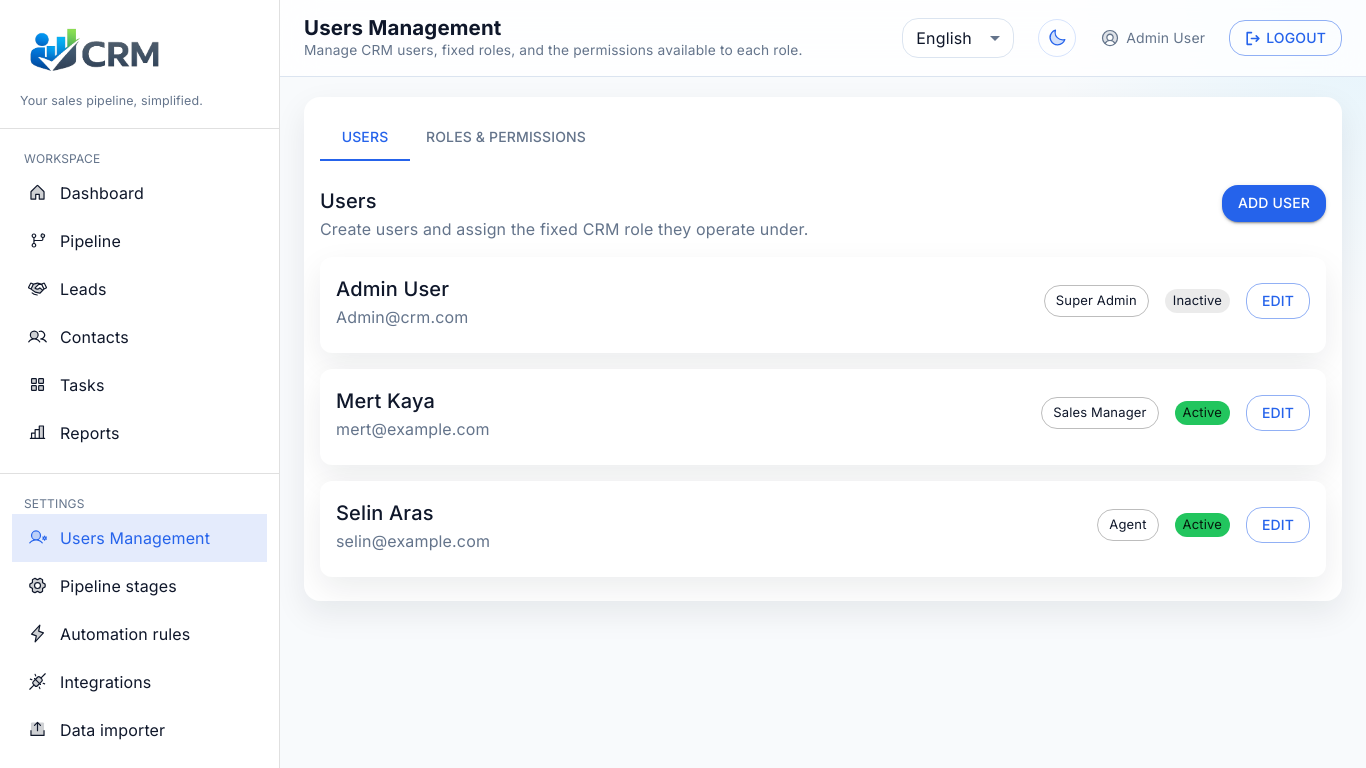
Users Management feature › creates a user with a fixed role
Expected: the heading "Users Management" is shown, top-left (304, 15), bottom-right (502, 40)
Click the button "Add user". click: [1274, 203]
box: top-left (1222, 185), bottom-right (1326, 222)
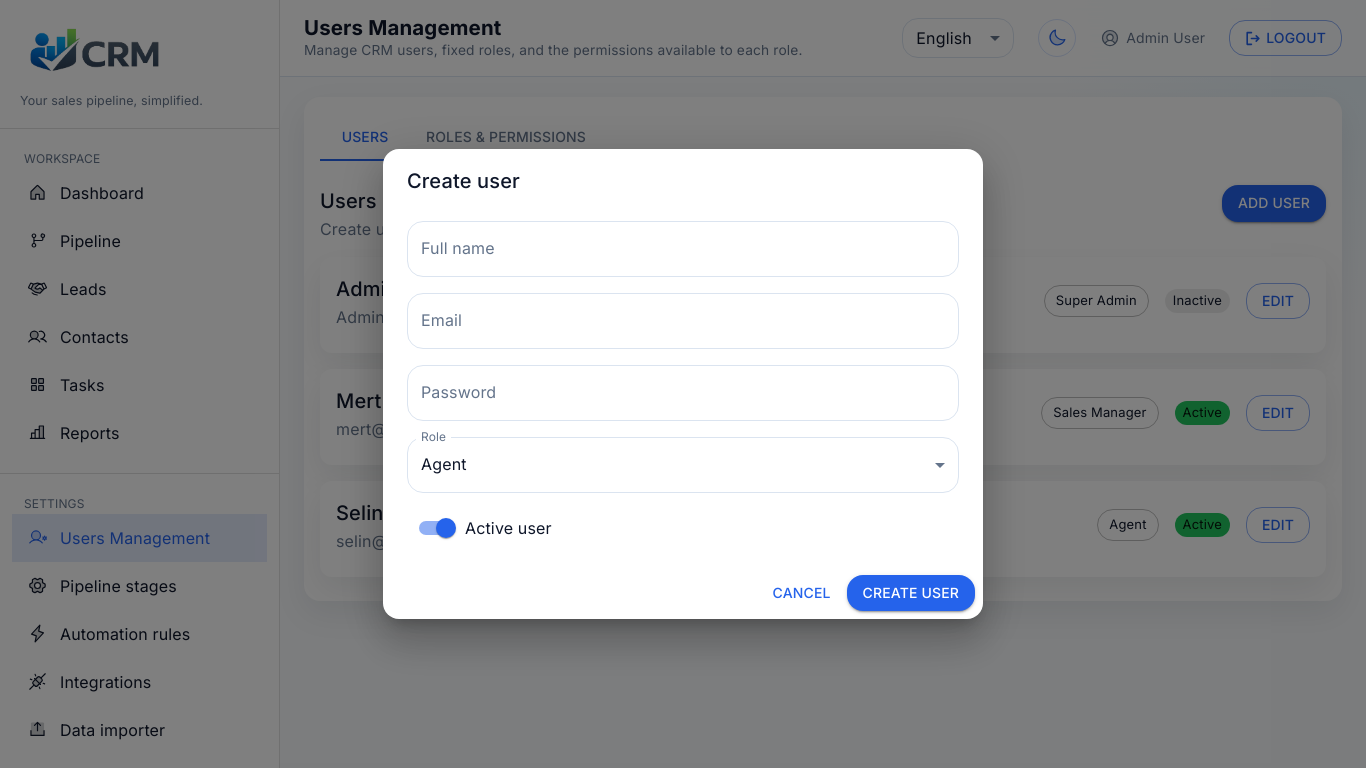
Type "Nora Haddad" into the field labelled "Full name". click: [683, 249]
box: top-left (407, 221), bottom-right (959, 277)
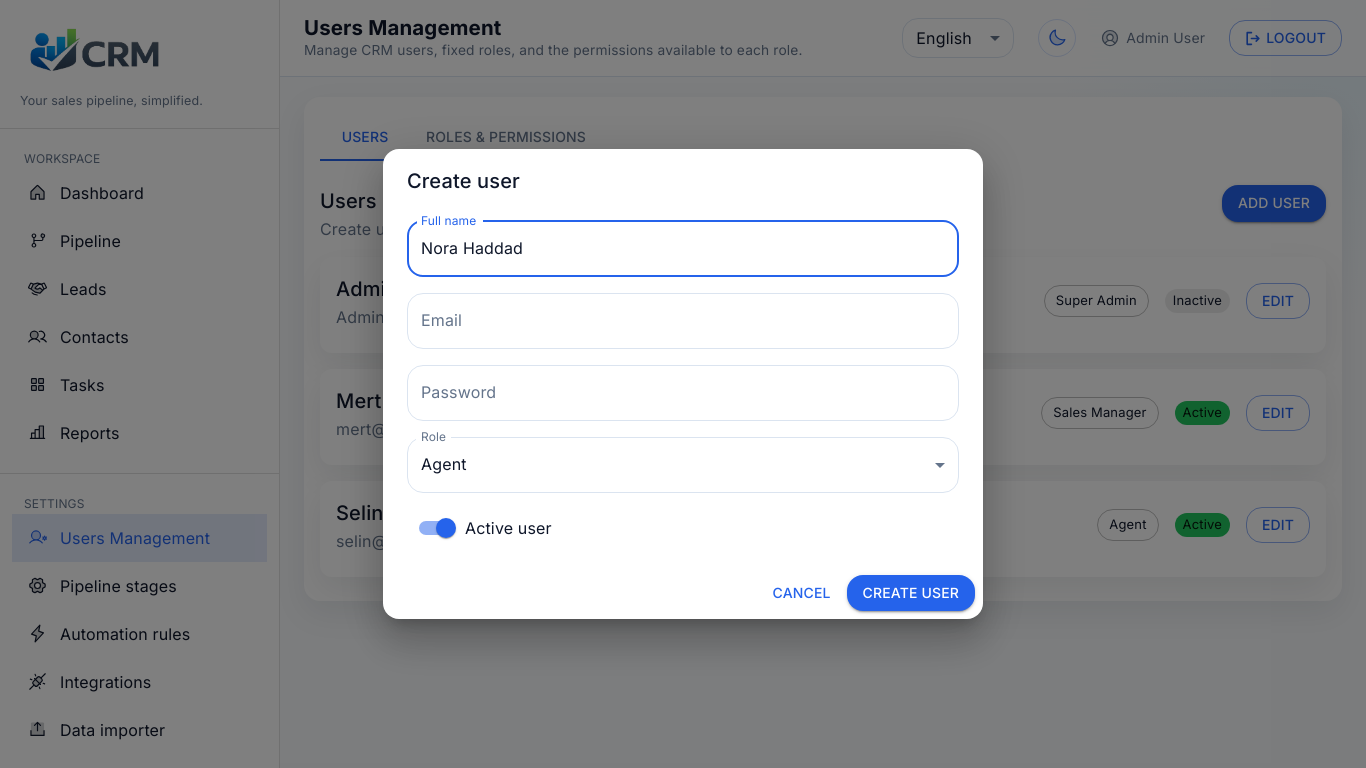
Type "nora@example.com" into the field labelled "Email". click: [683, 321]
box: top-left (407, 293), bottom-right (959, 349)
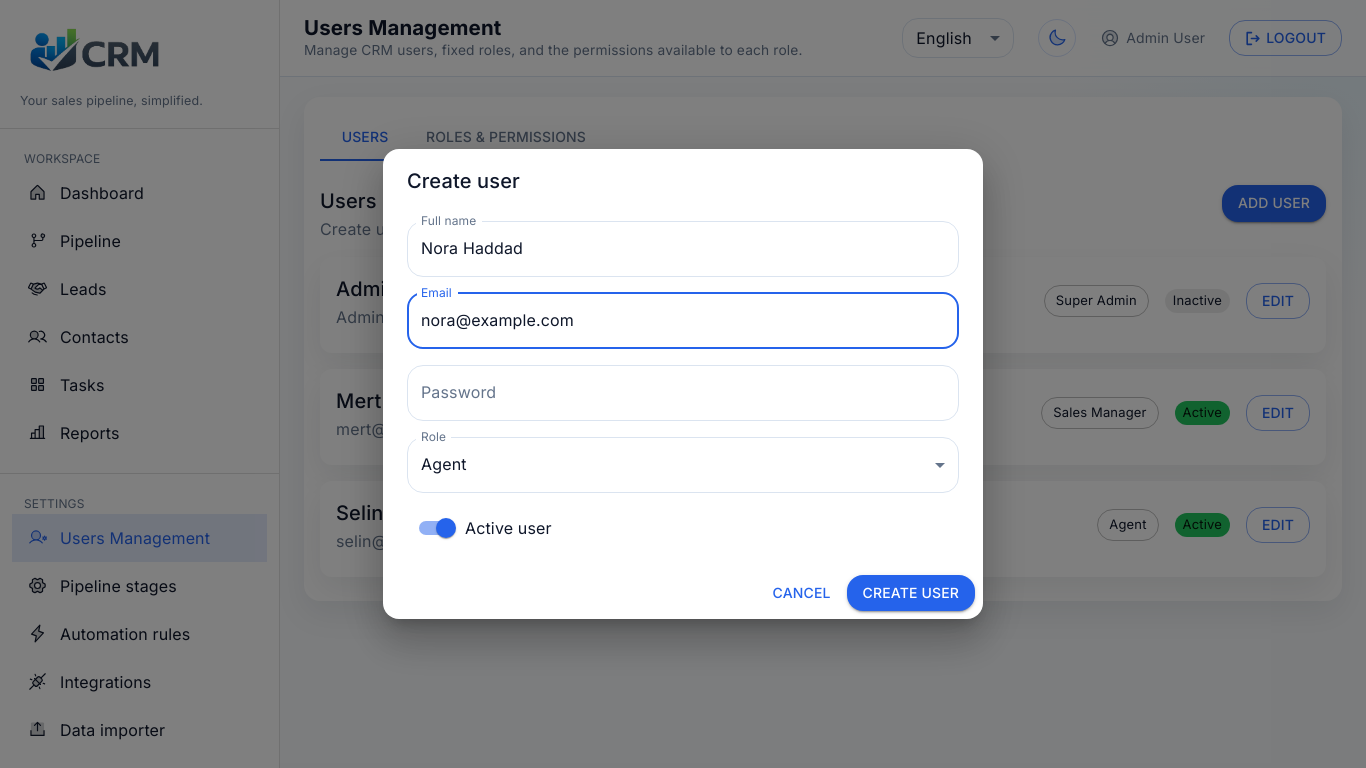
Type "secret123" into the password field labelled "Password". click: [683, 393]
box: top-left (407, 365), bottom-right (959, 421)
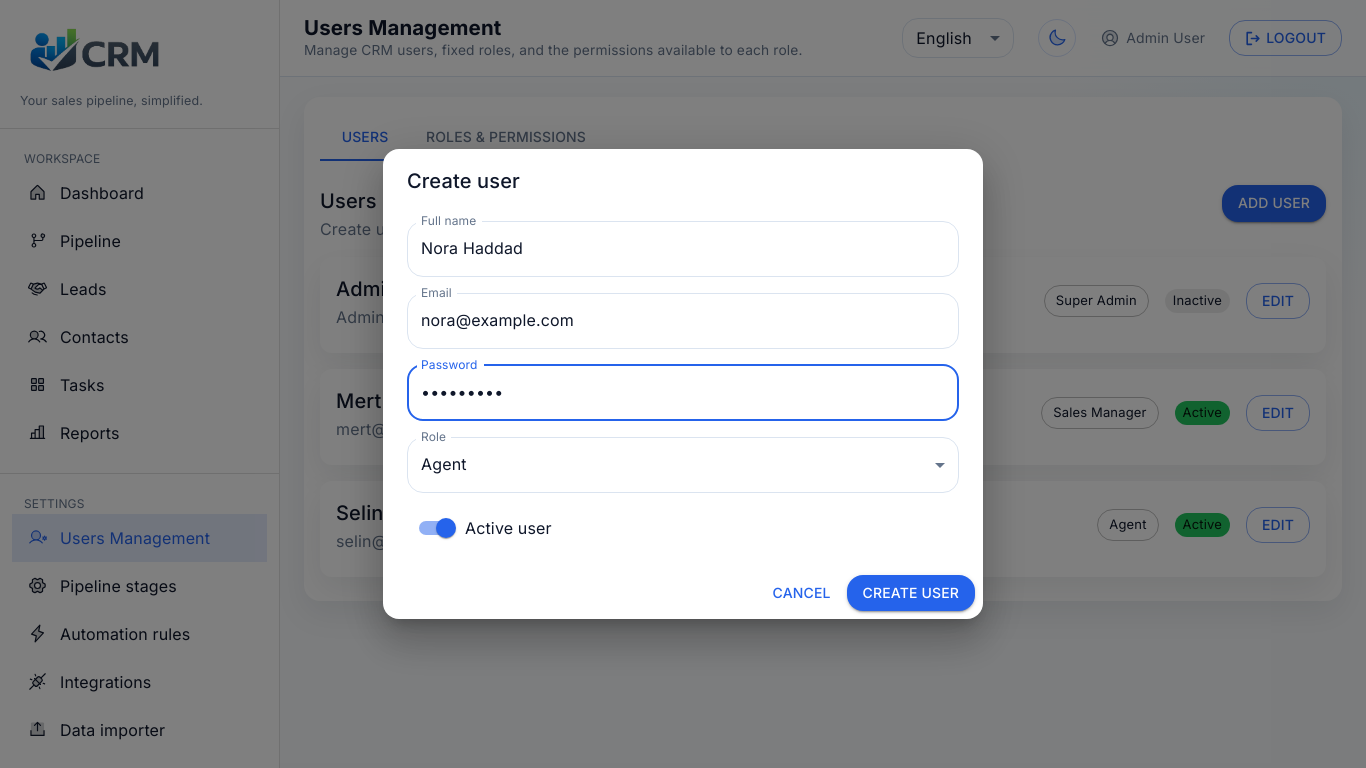
Click the button "Create user". click: [911, 593]
box: top-left (847, 575), bottom-right (975, 611)
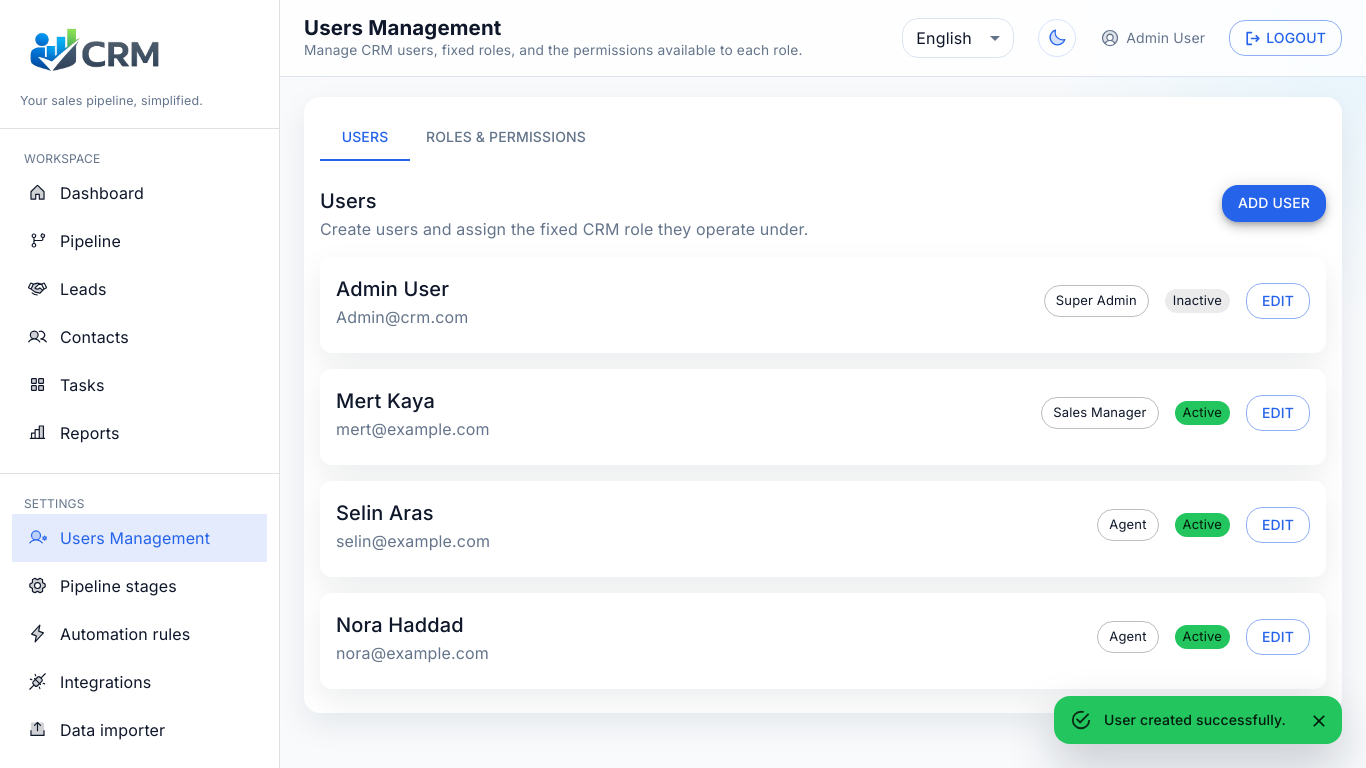
Result: the text "User created successfully." is shown at top-left (1104, 711), bottom-right (1286, 728)
Result: the heading "Nora Haddad" is shown at top-left (336, 613), bottom-right (464, 637)
